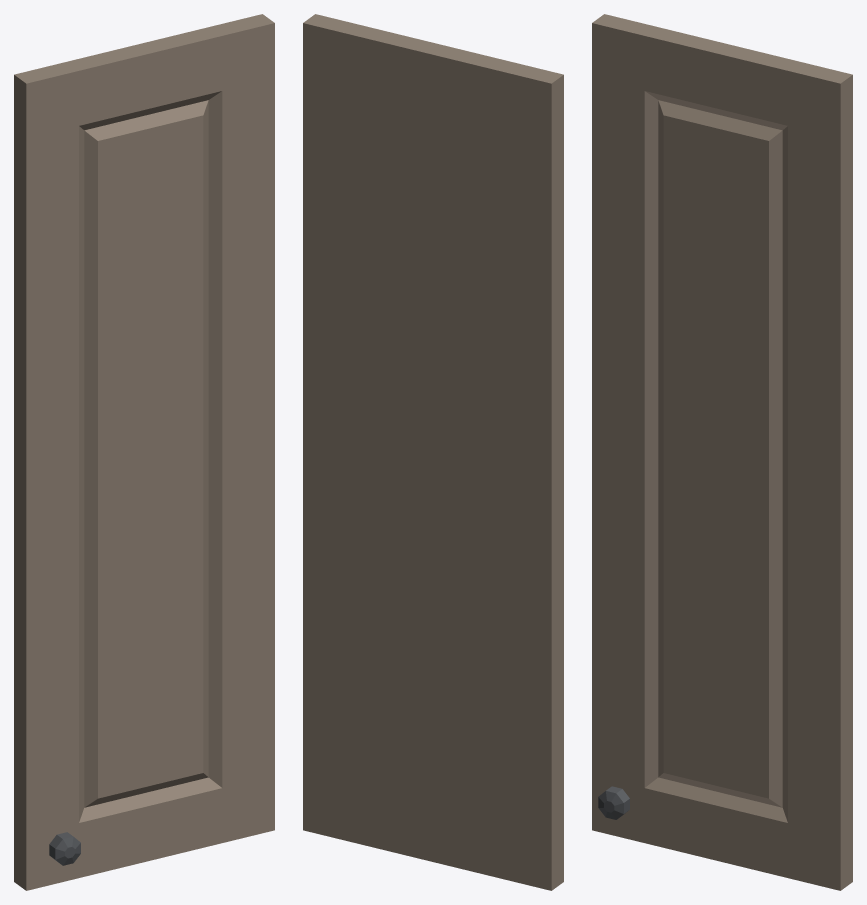
Rendered from Door3_C5_13.fbx.
3 renders of one model, left to right at view 1: azimuth 30°, elevation 25°; view 2: azimuth 150°, elevation 25°; view 3: azimuth 330°, elevation 25°, orthographic.
Visible parts, largest first — view 1: Door3_C5_13; view 2: Door3_C5_13; view 3: Door3_C5_13.
Part boxes in pixels (bbox=[...]): Door3_C5_13: bbox=[14, 14, 274, 890]; Door3_C5_13: bbox=[303, 14, 563, 890]; Door3_C5_13: bbox=[592, 14, 852, 890].
Bounding box in the file's own units: 29 × 90 × 5.19.
